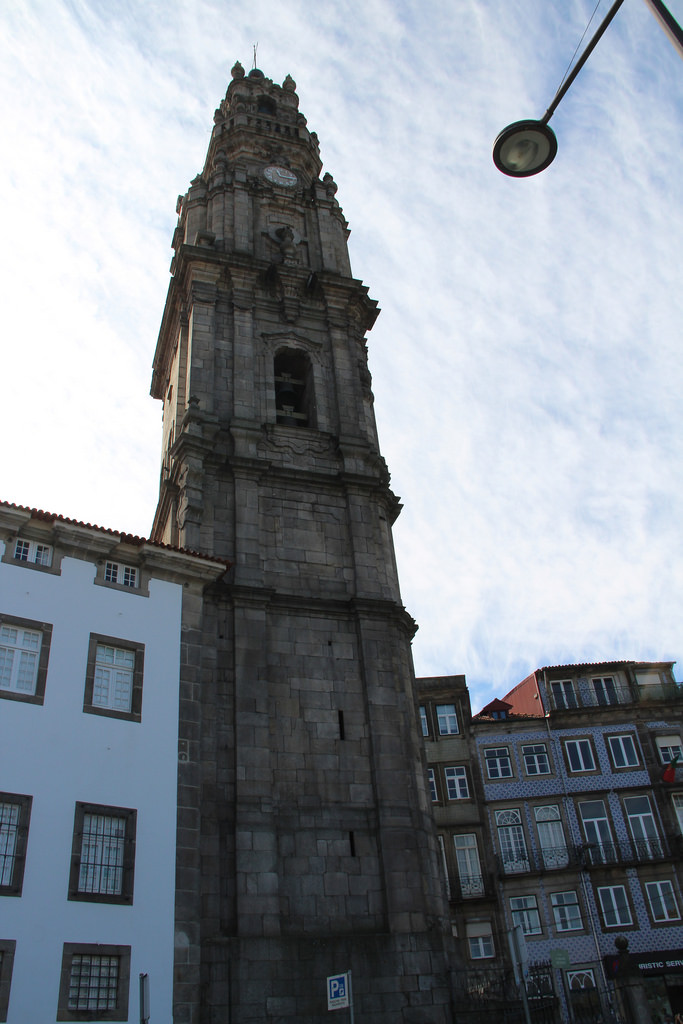clerigos: (150, 47, 456, 1023)
